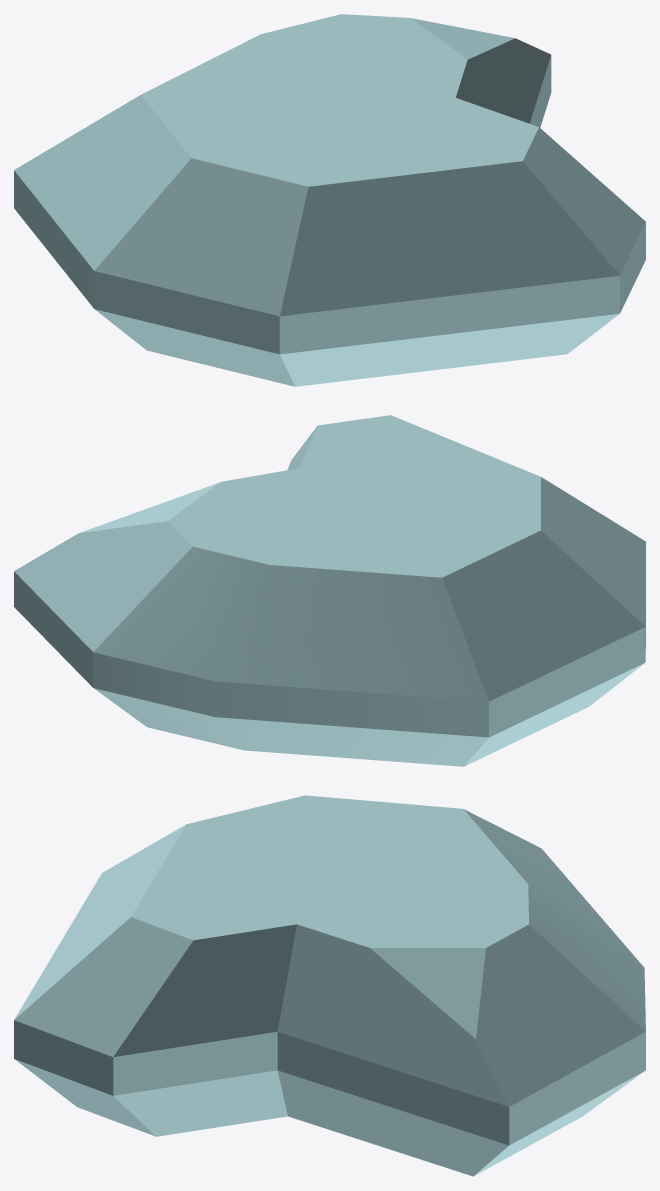
Rendered from stone_large3.obj.
The picture shows the model from 3 angles, top to bottom: view 1: azimuth 30°, elevation 25°; view 2: azimuth 150°, elevation 25°; view 3: azimuth 270°, elevation 25°; orthographic projection. The views are drawn at different scales.
Visible parts, largest first — view 1: stone_large3; view 2: stone_large3; view 3: stone_large3.
Part boxes in pixels (box(x1,y1,x2,y2)): stone_large3: box(14, 14, 645, 386); stone_large3: box(14, 415, 645, 766); stone_large3: box(14, 795, 645, 1176).
Bounding box in the file's own units: 10.64 × 3.21 × 10.16.
